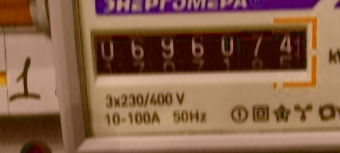0: (97, 35, 116, 60), (219, 31, 235, 56)
4: (277, 29, 293, 52)
5: (278, 54, 294, 70)
6: (190, 31, 207, 58), (129, 34, 146, 59)
7: (249, 31, 266, 56)
9: (159, 33, 175, 59)
screen: (80, 12, 322, 86)
